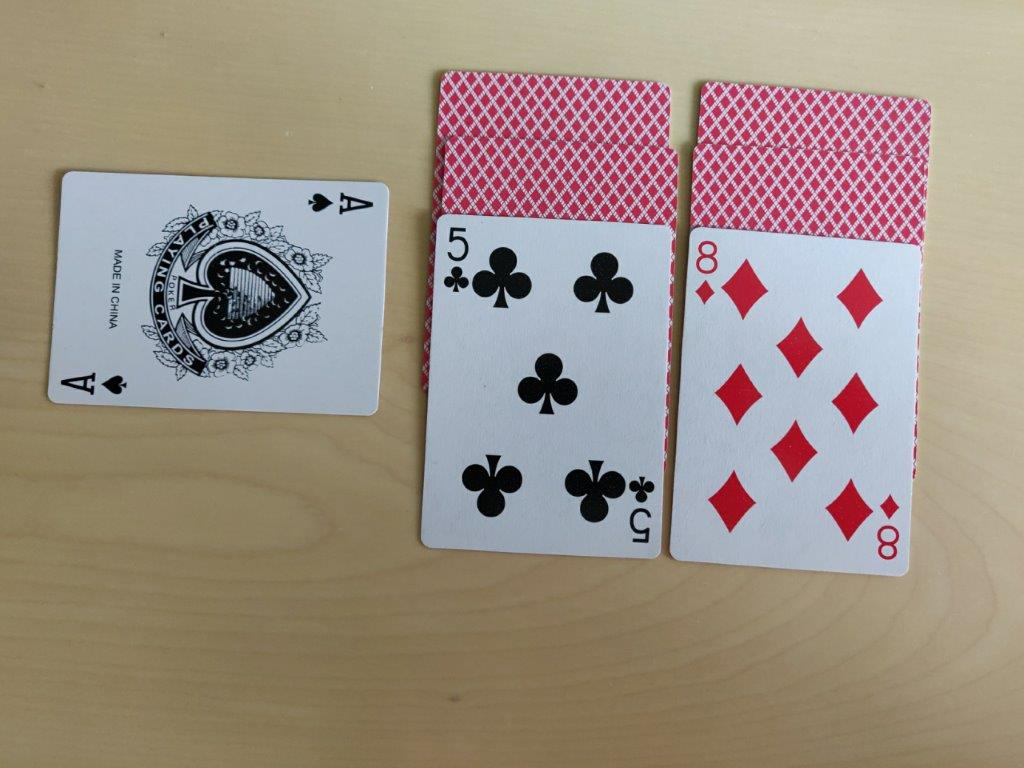5C: (442, 219, 470, 301)
8D: (691, 236, 719, 311)
BACK: (693, 145, 927, 246), (436, 134, 678, 221), (685, 77, 932, 161), (441, 68, 677, 149)
